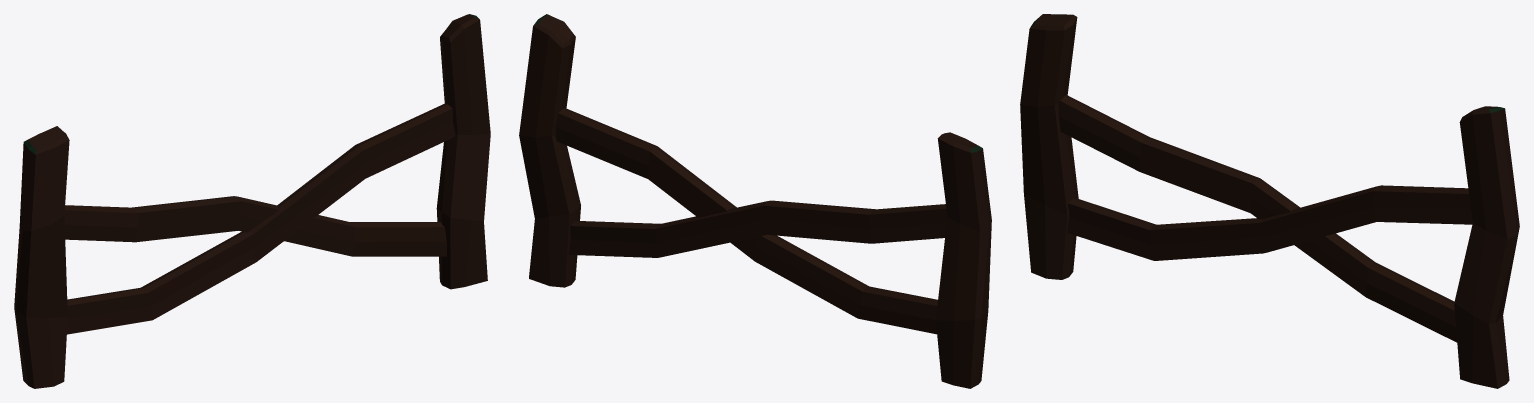
File: Gate_FBX.fbx
3 renders of one model, left to right at view 1: azimuth 30°, elevation 25°; view 2: azimuth 150°, elevation 25°; view 3: azimuth 330°, elevation 25°, orthographic. The views are drawn at different scales.
Parts seen in each view (by area): view 1: FencePlank006, FencePlank005, FencePost003, FencePost004; view 2: FencePlank006, FencePlank005, FencePost004, FencePost003; view 3: FencePlank006, FencePlank005, FencePost004, FencePost003.
Part boxes in pixels (bbox=[...]): FencePlank006: bbox=[67, 103, 455, 334]; FencePlank005: bbox=[64, 196, 446, 256]; FencePost003: bbox=[14, 126, 69, 388]; FencePost004: bbox=[436, 14, 490, 289]; FencePlank006: bbox=[555, 108, 937, 334]; FencePlank005: bbox=[569, 200, 947, 257]; FencePost004: bbox=[519, 14, 580, 287]; FencePost003: bbox=[936, 132, 991, 388]; FencePlank006: bbox=[1067, 185, 1472, 260]; FencePlank005: bbox=[1058, 95, 1457, 342]; FencePost004: bbox=[1454, 106, 1519, 388]; FencePost003: bbox=[1020, 14, 1078, 279].
Bounding box in the file's own units: 315 × 169 × 23.87.
